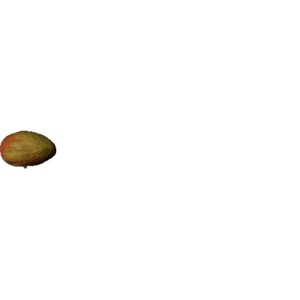mamão: (1, 129, 59, 173)
